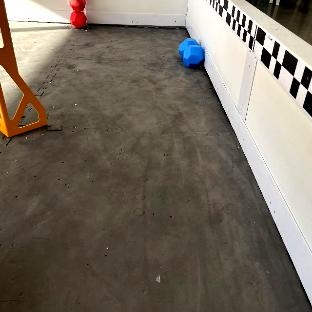Goal: (0, 0, 46, 136)
V5_BLUE: (179, 39, 204, 66)
V5_RED: (69, 0, 86, 27)
